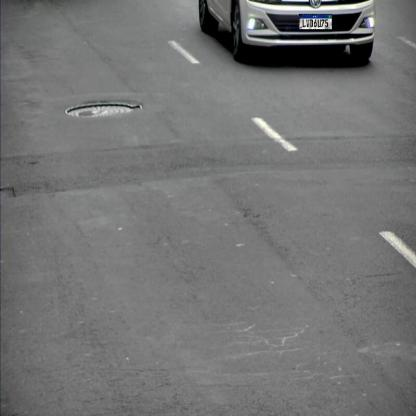PlacaM: (299, 14, 332, 30)
